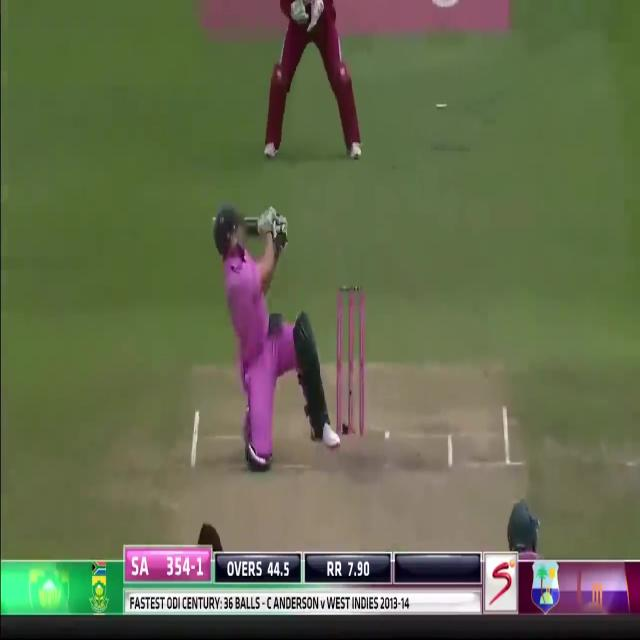Ball: (192, 192, 339, 474)
